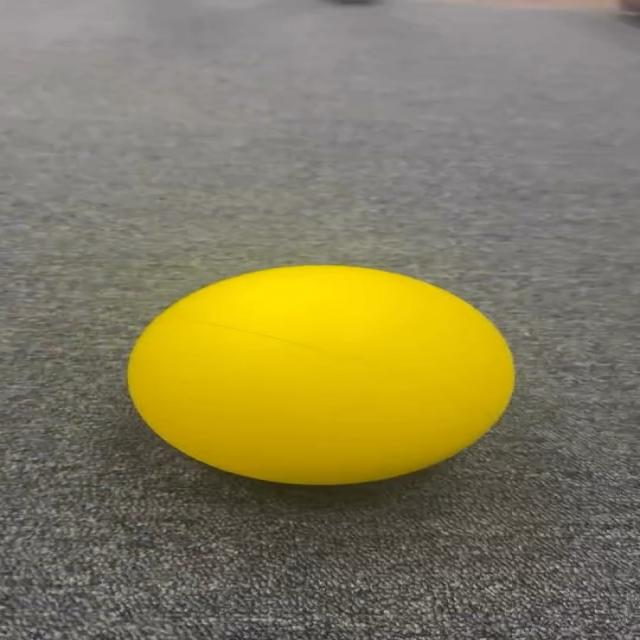Fuels: (123, 262, 512, 479)
